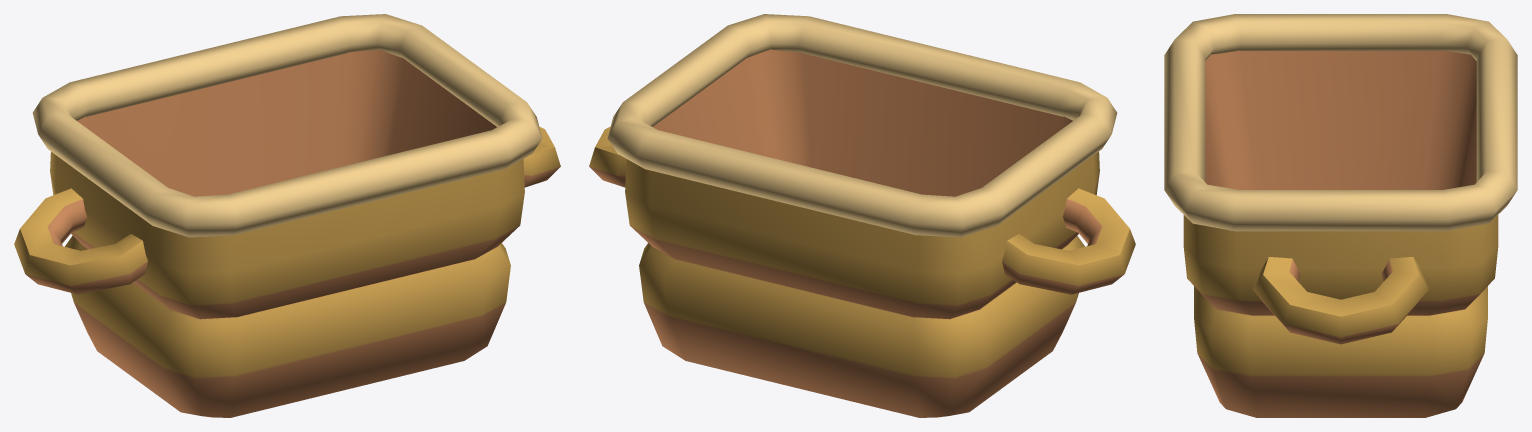
File: farmminigame6.fbx
3 renders of one model, left to right at view 1: azimuth 30°, elevation 25°; view 2: azimuth 150°, elevation 25°; view 3: azimuth 270°, elevation 25°, orthographic.
Parts seen in each view (by area): view 1: Cube, Cube.005; view 2: Cube, Cube.005; view 3: Cube, Cube.005.
Part boxes in pixels (box(x1,y1,x2,y2)): Cube: box(14, 49, 560, 417); Cube.005: box(32, 14, 542, 237); Cube: box(589, 49, 1135, 417); Cube.005: box(607, 14, 1117, 237); Cube: box(1183, 50, 1498, 417); Cube.005: box(1164, 14, 1517, 231).
Size of the model in its own units: 588 by 267 by 339.
1 material, 1 textured.
